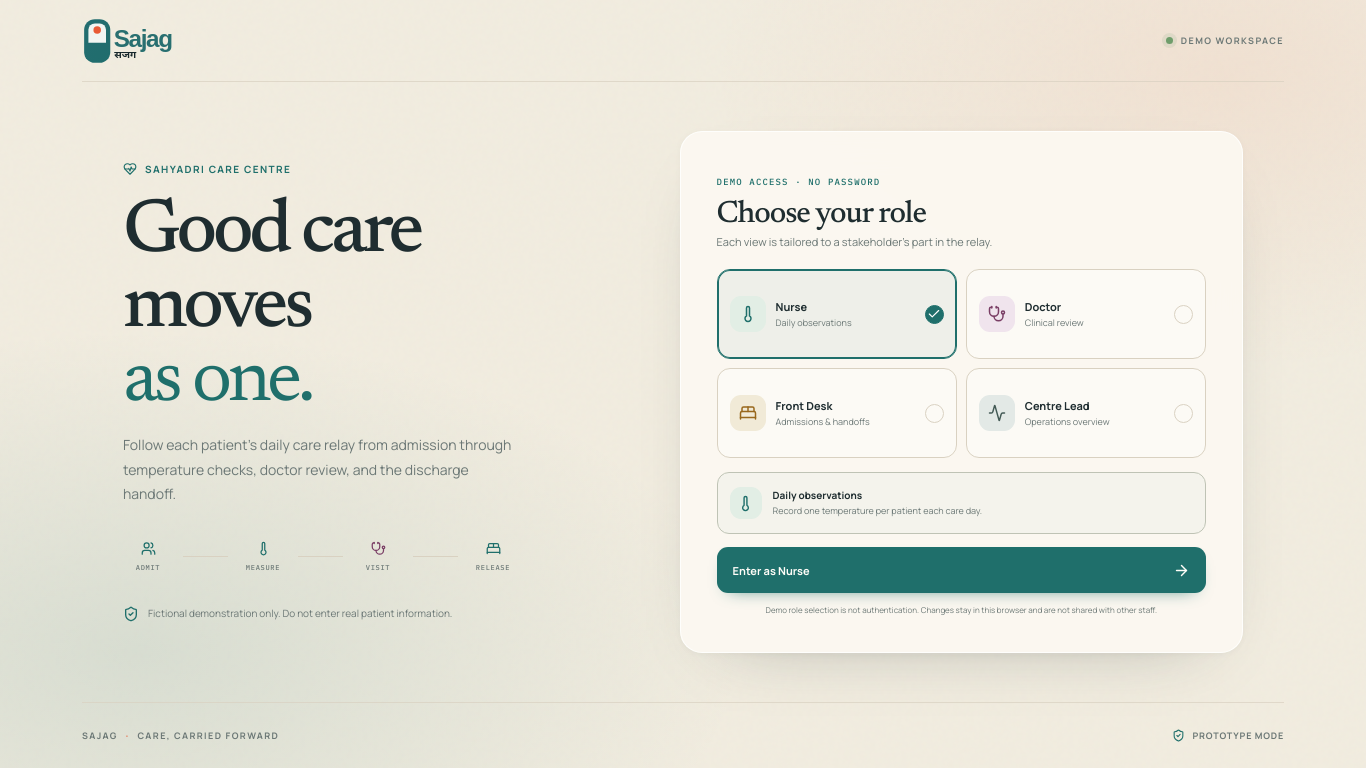
Sajag interface workflows › offers a stakeholder demo sign-in and opens the selected workspace
Expected: the heading "Good care moves" is shown, [123,195,420,420]
Click the button "Doctor Clinical review".
click(1086, 314)  # box [966,269,1206,359]
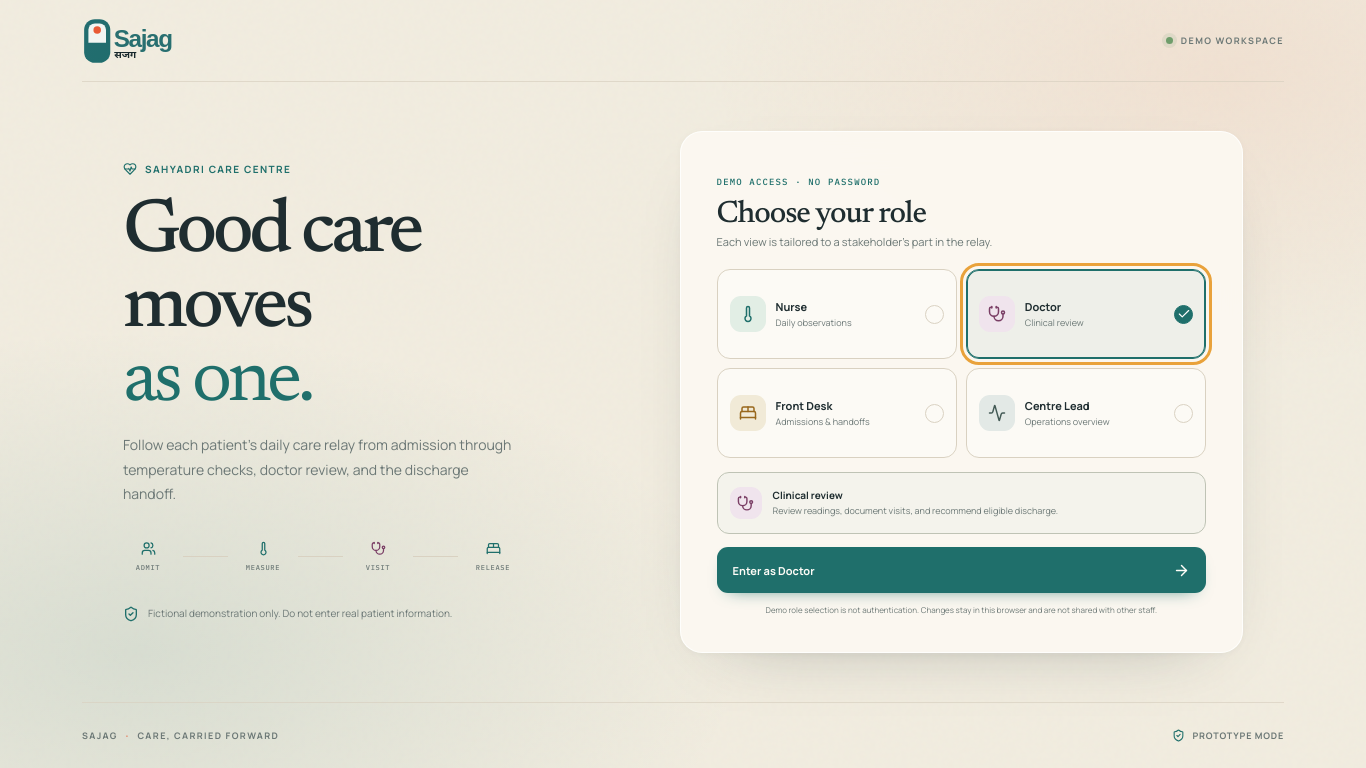
Click the button "Enter as Doctor".
click(755, 570)  # box [717,547,1206,593]
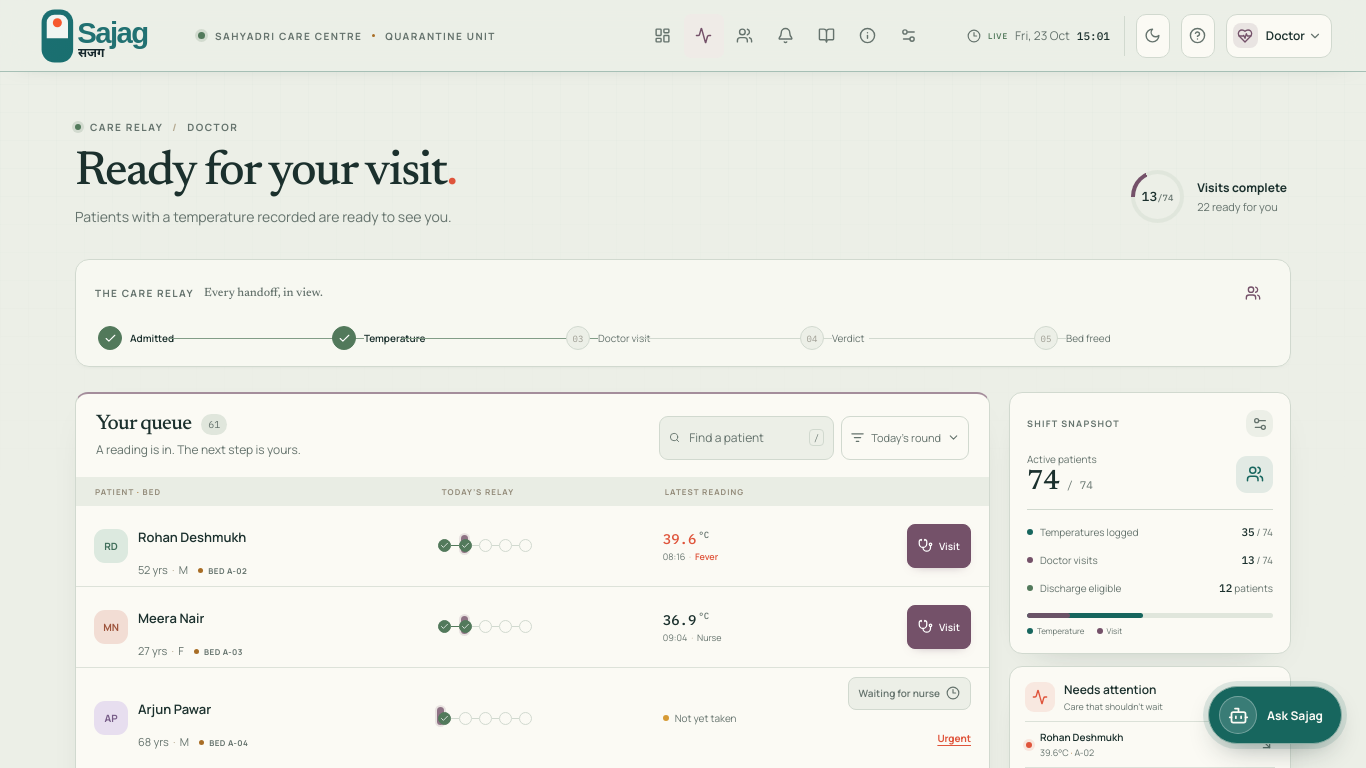
Expected: the heading "Ready for your visit." is shown, [75,146,456,200]
